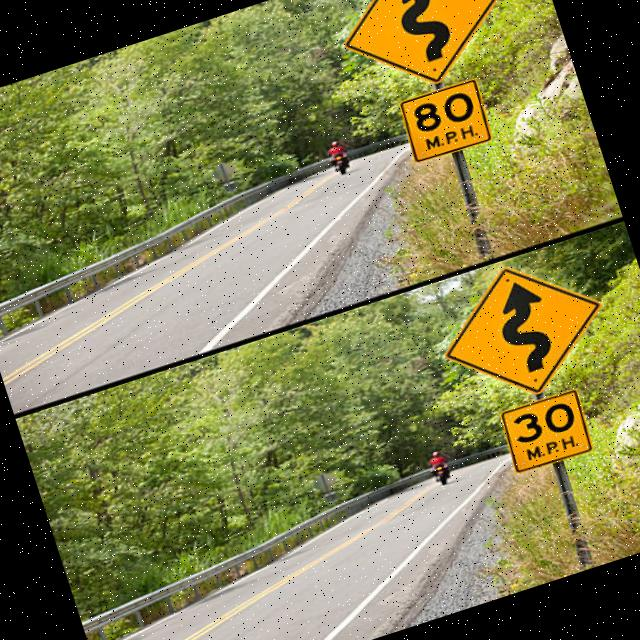left_sharp_curve: (398, 228, 640, 423), (311, 0, 531, 115)
